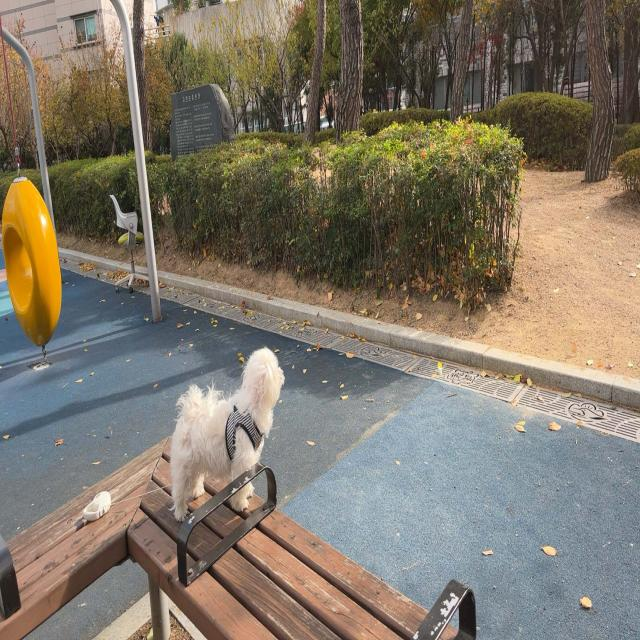Dog: (170, 346, 286, 522)
